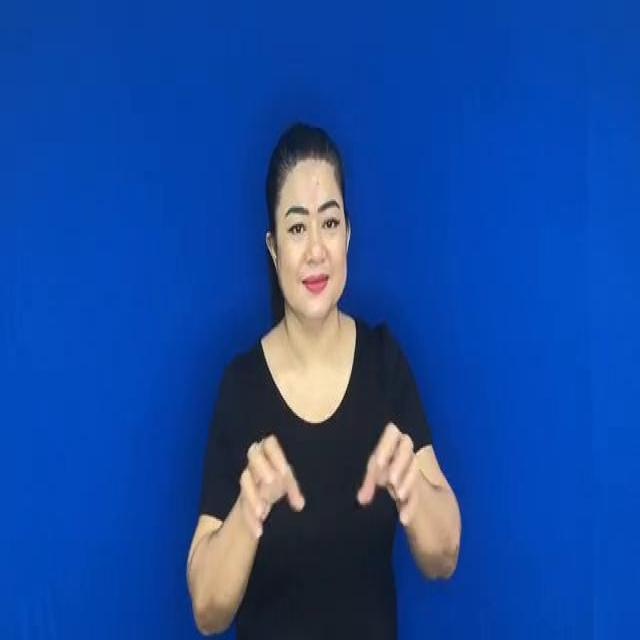egg: (195, 376, 440, 559)
